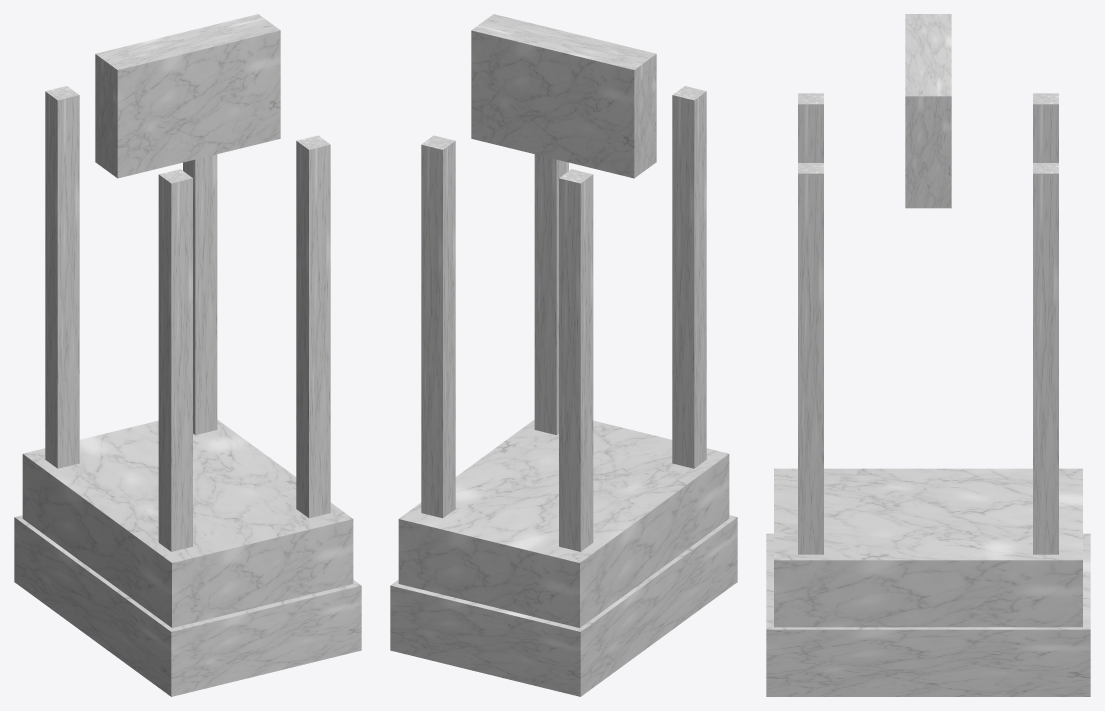
File: sanctuary_of_kukulkan.obj
3 renders of one model, left to right at view 1: azimuth 30°, elevation 25°; view 2: azimuth 150°, elevation 25°; view 3: azimuth 270°, elevation 25°, orthographic. The views are drawn at different scales.
Parts seen in each view (by area): view 1: building; view 2: building; view 3: building.
Boxes of the visible parts, box(x1,y1,x2,y2) form: building: box(14, 14, 361, 696); building: box(390, 14, 737, 696); building: box(766, 14, 1090, 696).
Size of the model in its own units: 3.67 by 10.6 by 5.25.
